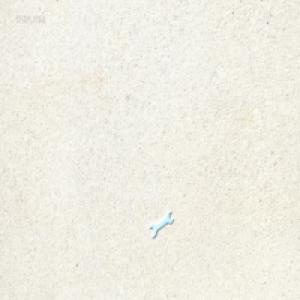Wrench: (150, 211, 174, 239)
